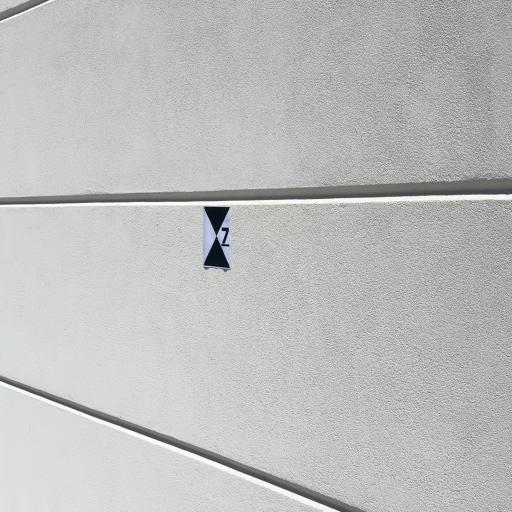target7: (204, 206, 231, 268)
